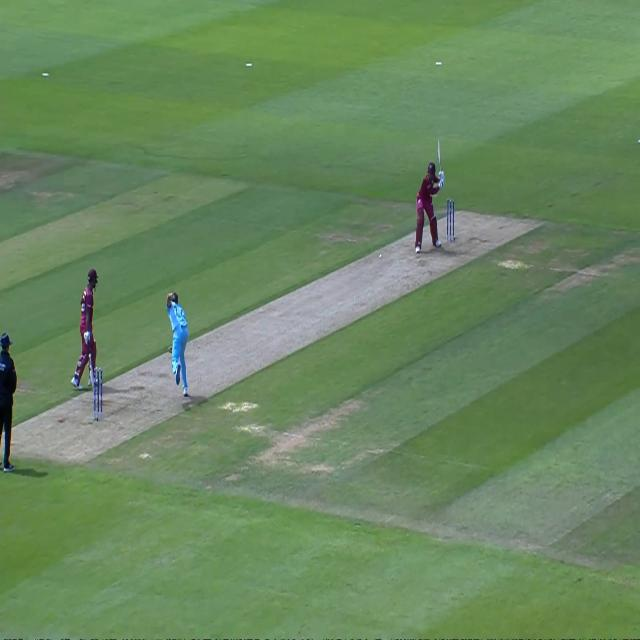ball: (375, 250, 387, 266)
